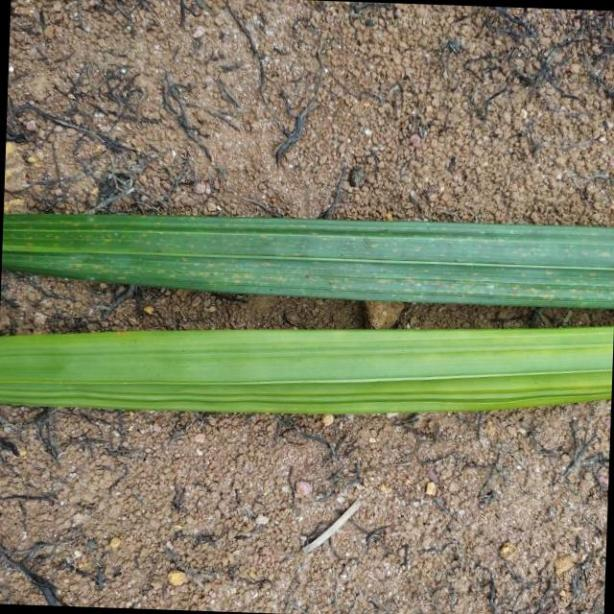nitrogen: (0, 205, 614, 308), (0, 322, 614, 414)
